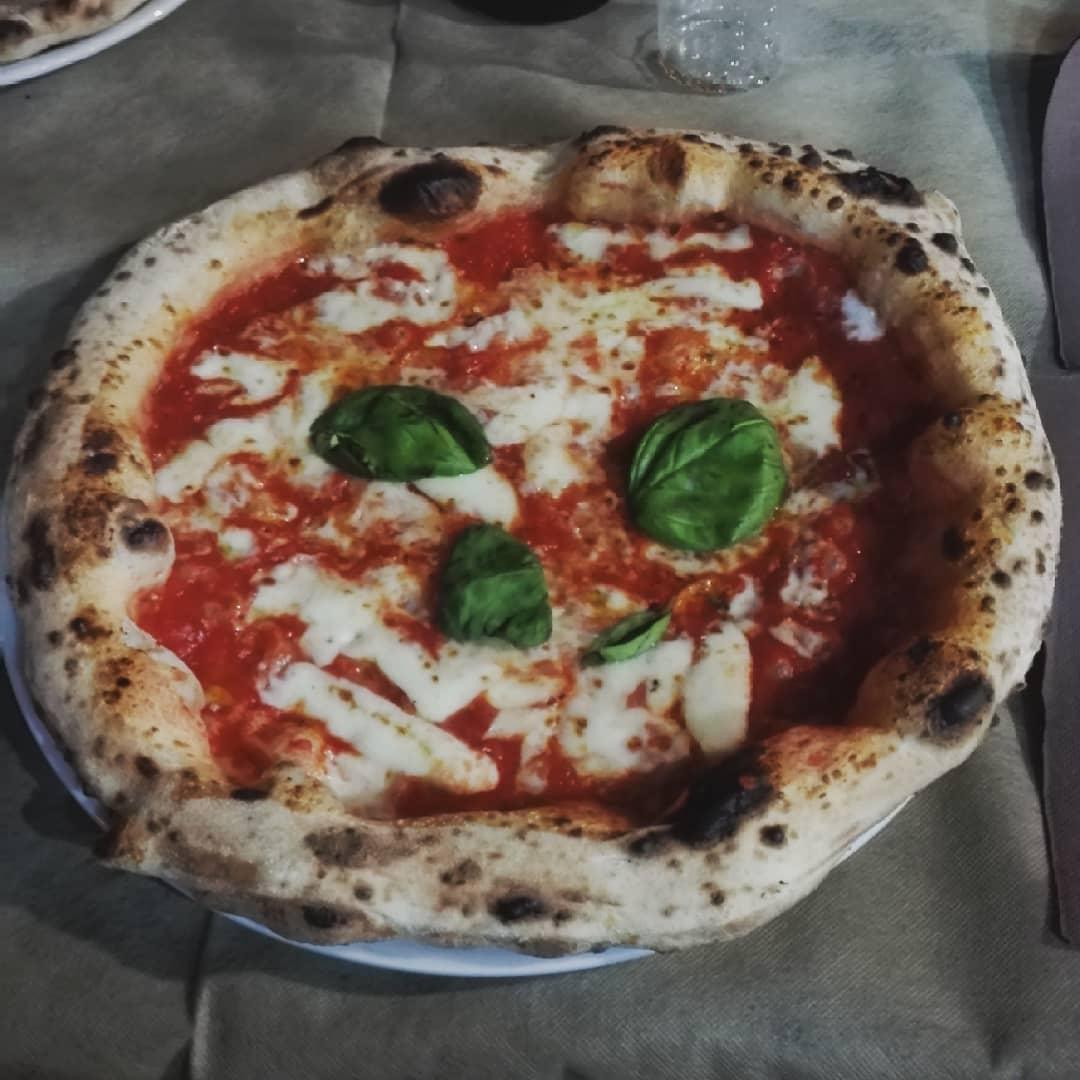Basil: (628, 402, 782, 543), (425, 513, 557, 647), (308, 382, 492, 477), (580, 610, 682, 665)
Chicken: (18, 142, 1065, 937)
